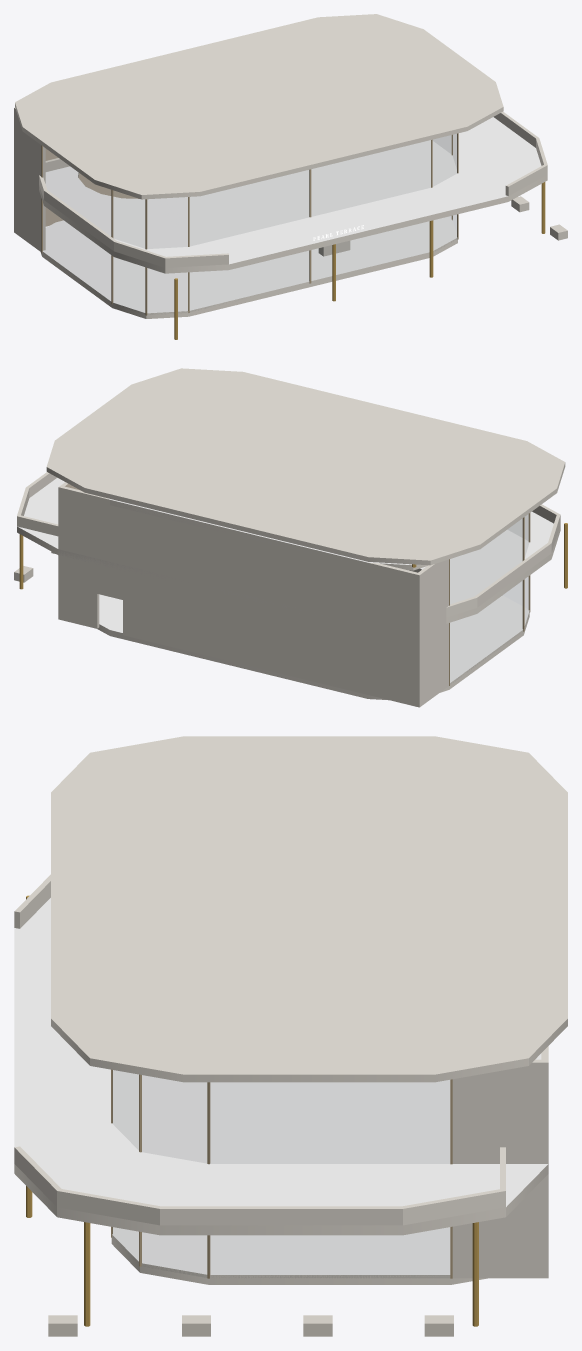
The model's file is pearl_terrace_lod2.glb.
3 views of the same model, one above another, from view 1: azimuth 30°, elevation 25°; view 2: azimuth 150°, elevation 25°; view 3: azimuth 270°, elevation 25° (orthographic). The views are drawn at different scales.
Visible parts, largest first — view 1: P11_LOD2_FACADE_DETAILS_Balcony, P11_LOD2_BUILDING_EXTERIOR_BalconySlab, P11_LOD2_BUILDING_INTERIOR_GroundSlab, P11_LOD2_BUILDING_EXTERIOR_Shell, P11_LOD2_GLASS_SYSTEM_L1Frame, P11_LOD2_GLASS_SYSTEM_GFFrame, P11_LOD2_FURNITURE_SideTerrace; view 2: P11_LOD2_FACADE_DETAILS_Balcony, P11_LOD2_BUILDING_EXTERIOR_Shell, P11_LOD2_BUILDING_EXTERIOR_BalconySlab, P11_LOD2_BUILDING_INTERIOR_GroundSlab, P11_LOD2_BUILDING_EXTERIOR_Roof; view 3: P11_LOD2_FACADE_DETAILS_Balcony, P11_LOD2_BUILDING_EXTERIOR_BalconySlab, P11_LOD2_BUILDING_INTERIOR_GroundSlab, P11_LOD2_BUILDING_EXTERIOR_Shell, P11_LOD2_FURNITURE_SideTerrace, P11_LOD2_GLASS_SYSTEM_L1Frame.
Part boxes in pixels (left/top/right/bottom): P11_LOD2_FACADE_DETAILS_Balcony: left=15, top=14, right=547, bottom=339; P11_LOD2_BUILDING_EXTERIOR_BalconySlab: left=39, top=117, right=547, bottom=273; P11_LOD2_BUILDING_INTERIOR_GroundSlab: left=40, top=216, right=457, bottom=318; P11_LOD2_BUILDING_EXTERIOR_Shell: left=14, top=107, right=138, bottom=251; P11_LOD2_GLASS_SYSTEM_L1Frame: left=41, top=133, right=458, bottom=249; P11_LOD2_GLASS_SYSTEM_GFFrame: left=41, top=198, right=458, bottom=315; P11_LOD2_FURNITURE_SideTerrace: left=511, top=196, right=567, bottom=240; P11_LOD2_FACADE_DETAILS_Balcony: left=17, top=368, right=567, bottom=617; P11_LOD2_BUILDING_EXTERIOR_Shell: left=58, top=482, right=448, bottom=707; P11_LOD2_BUILDING_EXTERIOR_BalconySlab: left=17, top=478, right=560, bottom=623; P11_LOD2_BUILDING_INTERIOR_GroundSlab: left=97, top=594, right=529, bottom=700; P11_LOD2_BUILDING_EXTERIOR_Roof: left=107, top=498, right=427, bottom=570; P11_LOD2_FACADE_DETAILS_Balcony: left=14, top=736, right=567, bottom=1326; P11_LOD2_BUILDING_EXTERIOR_BalconySlab: left=14, top=898, right=548, bottom=1235; P11_LOD2_BUILDING_INTERIOR_GroundSlab: left=111, top=1227, right=487, bottom=1284; P11_LOD2_BUILDING_EXTERIOR_Shell: left=452, top=1046, right=548, bottom=1278; P11_LOD2_FURNITURE_SideTerrace: left=48, top=1315, right=453, bottom=1336; P11_LOD2_GLASS_SYSTEM_L1Frame: left=111, top=1069, right=452, bottom=1164.
Size of the model in its own units: 36 by 10.95 by 22.82.
